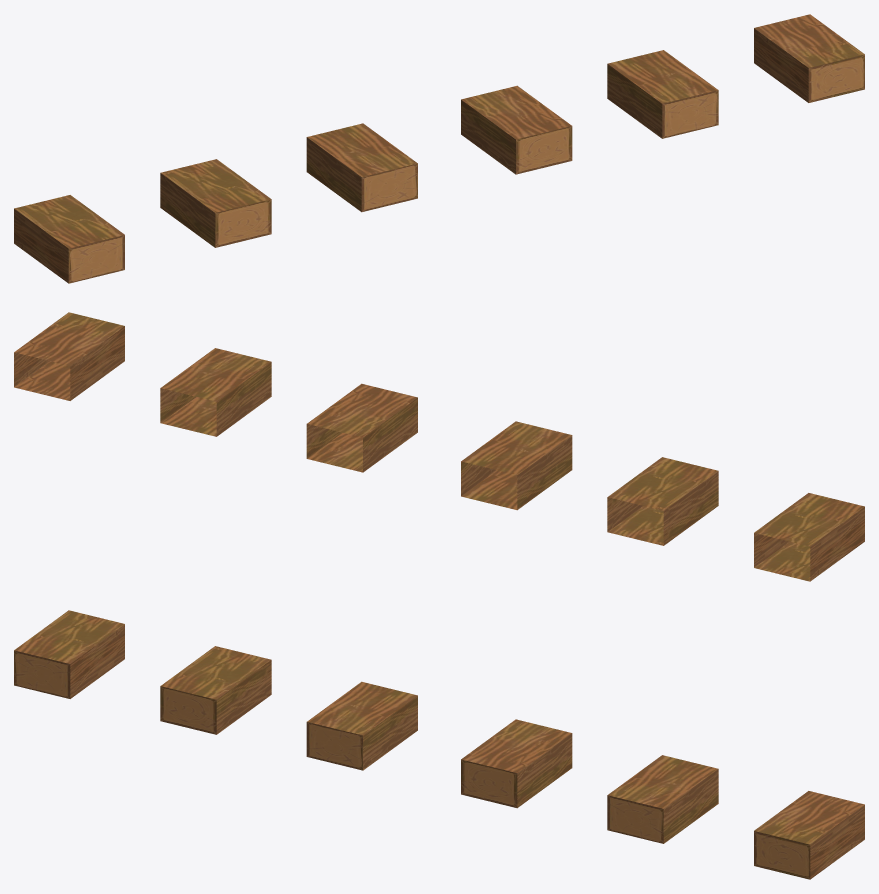
Rendered from Roof_FrontSupports.glb.
The picture shows the model from 3 angles, top to bottom: view 1: azimuth 30°, elevation 25°; view 2: azimuth 150°, elevation 25°; view 3: azimuth 330°, elevation 25°; orthographic projection.
Parts seen in each view (by area): view 1: Roof_FrontSupports; view 2: Roof_FrontSupports; view 3: Roof_FrontSupports.
Part boxes in pixels (bbox=[...]): Roof_FrontSupports: bbox=[14, 14, 864, 283]; Roof_FrontSupports: bbox=[14, 312, 864, 581]; Roof_FrontSupports: bbox=[14, 610, 864, 879].
Size of the model in its own units: 5.49 by 0.2311 by 0.6543.
1 material, 1 textured.
